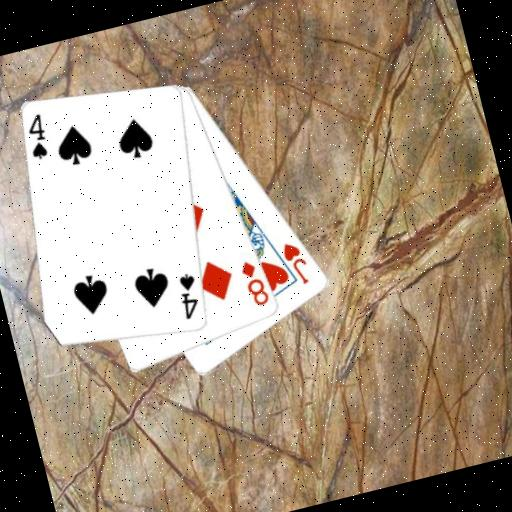4S: (172, 270, 206, 323), (20, 110, 54, 163)
8D: (237, 255, 273, 310)
JH: (278, 237, 314, 290)
